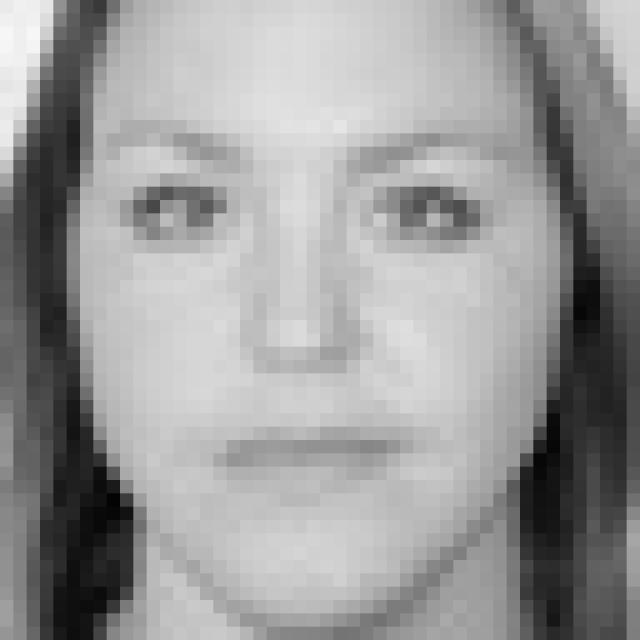neutral: (102, 116, 532, 523)
